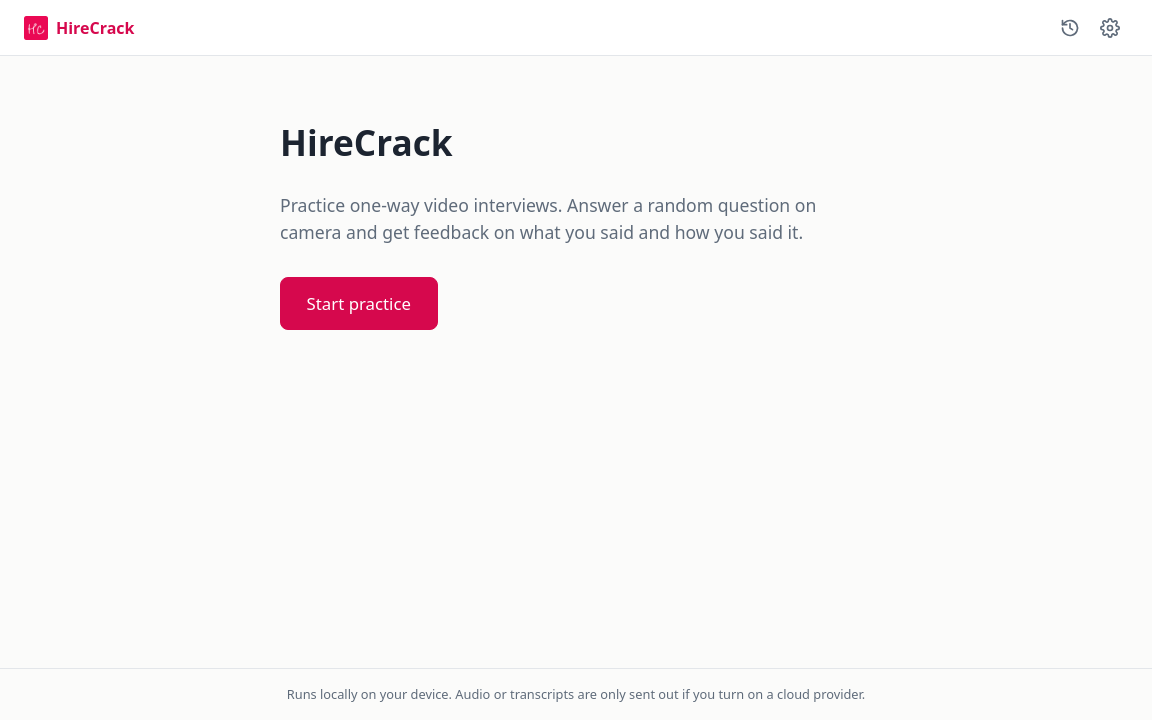
Test case: History page › Back returns Home
Click the button named "History" at (1070, 28), box [1052, 10, 1088, 46]
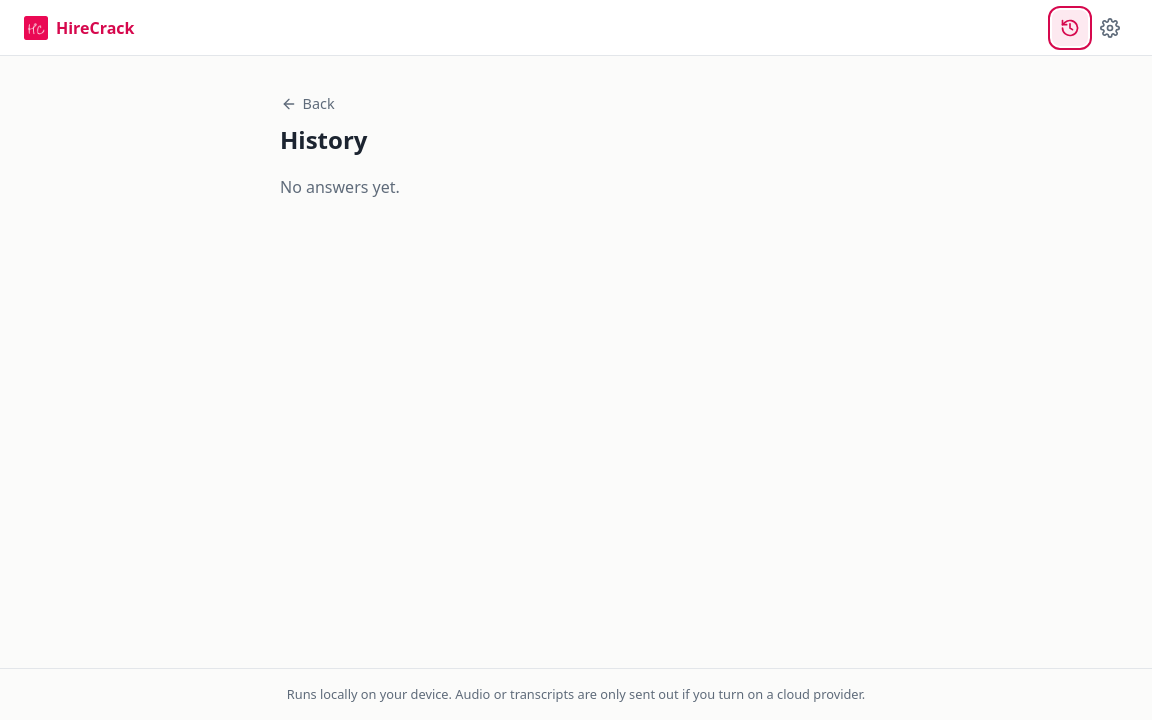
Click the button "Back" at (309, 104), box [273, 88, 345, 120]
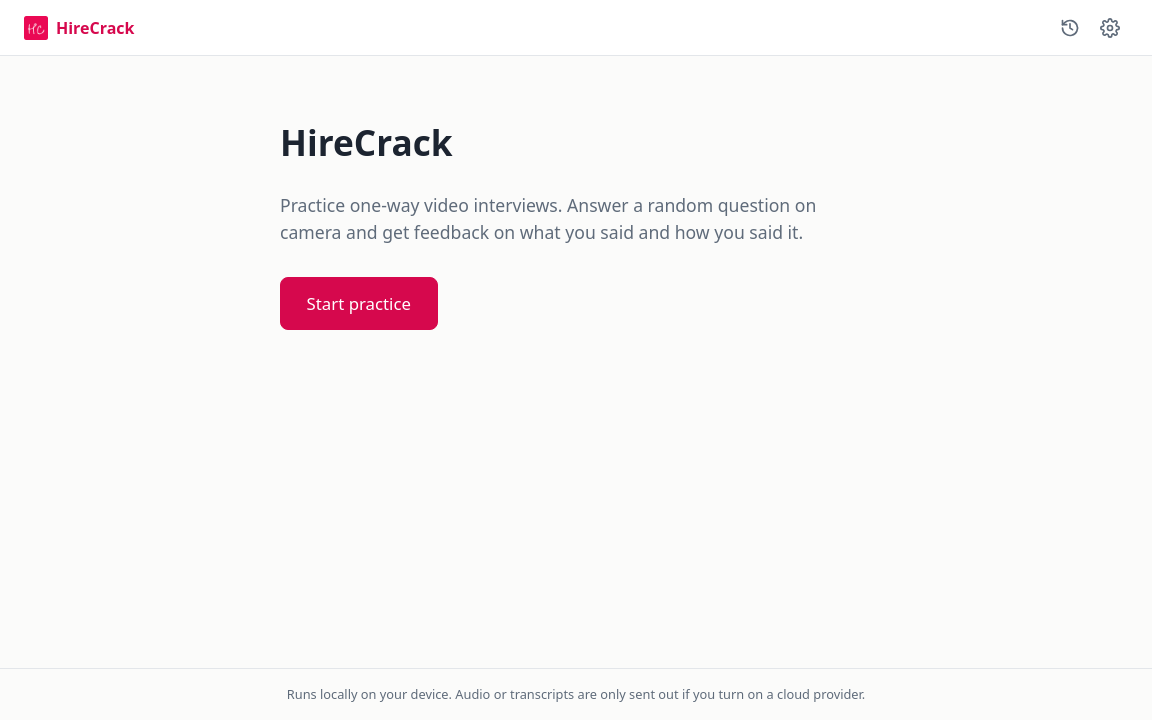
Expected: the button "Start practice" is shown, [280, 277, 438, 330]
